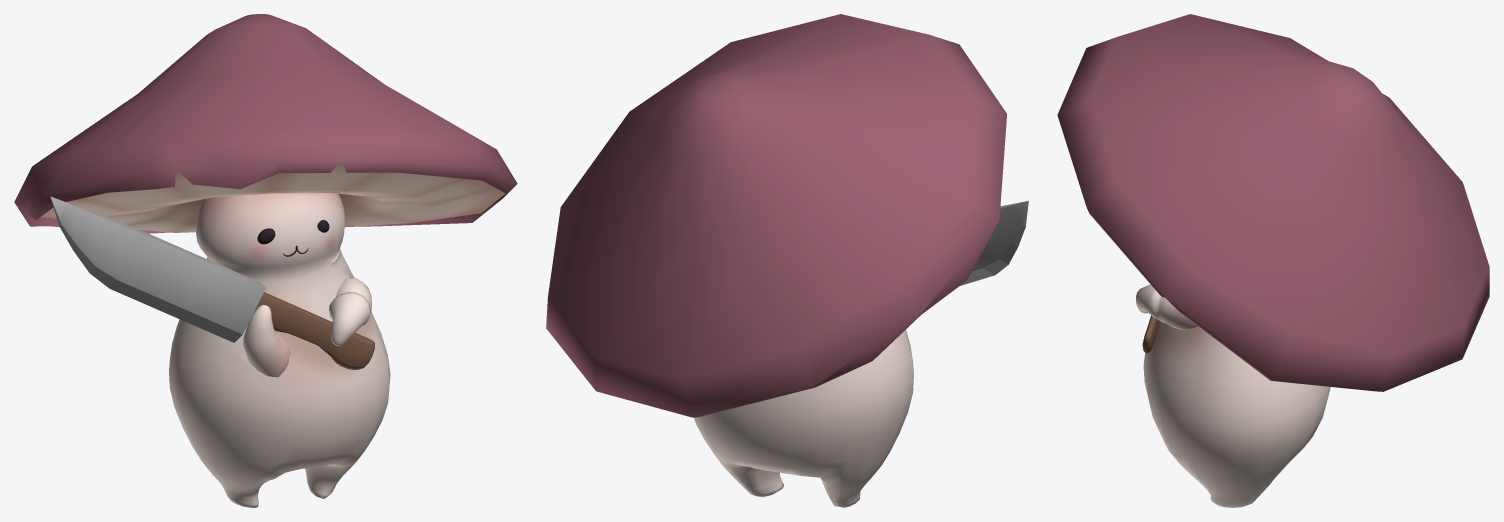
Rendered from Pilzi.glb.
The picture shows the model from 3 angles, left to right: view 1: azimuth 30°, elevation 25°; view 2: azimuth 150°, elevation 25°; view 3: azimuth 270°, elevation 25°; orthographic projection. The views are drawn at different scales.
Visible parts, largest first — view 1: Cylinder.001, Cylinder.004, Cube.002, Cylinder.002; view 2: Cylinder.001, Cylinder.004, Cube.002; view 3: Cylinder.001, Cylinder.004.
Boxes of the visible parts, bbox=[...] form: Cylinder.001: bbox=[14, 14, 517, 233]; Cylinder.004: bbox=[169, 193, 390, 507]; Cube.002: bbox=[50, 196, 374, 369]; Cylinder.002: bbox=[41, 161, 505, 232]; Cylinder.001: bbox=[546, 14, 1006, 417]; Cylinder.004: bbox=[694, 330, 913, 507]; Cube.002: bbox=[960, 200, 1028, 285]; Cylinder.001: bbox=[1057, 14, 1489, 391]; Cylinder.004: bbox=[1136, 284, 1330, 507].
Size of the model in its own units: 6.96 by 6.57 by 5.97.
6 materials, 2 textured.
